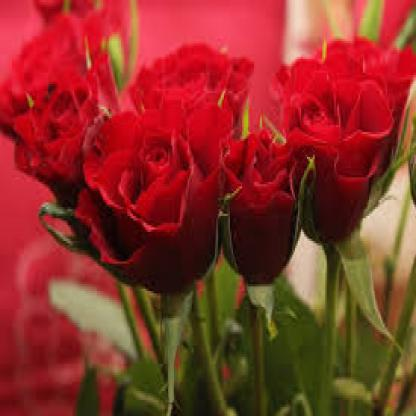Rose-Mawar: (6, 10, 413, 265)
